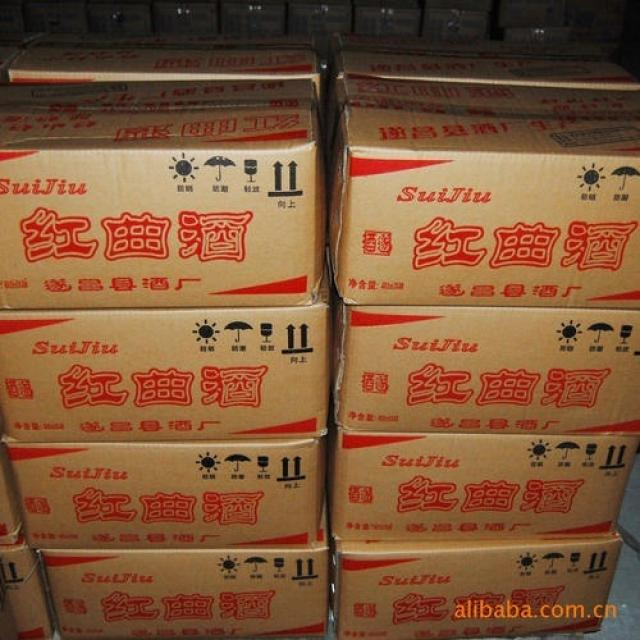box: (0, 81, 329, 310), (329, 78, 640, 310), (0, 259, 330, 443), (333, 293, 640, 435), (38, 500, 329, 640), (330, 417, 640, 538), (5, 434, 328, 548), (330, 536, 622, 640), (332, 35, 640, 92), (9, 32, 317, 87), (0, 547, 54, 640), (0, 445, 26, 549)
